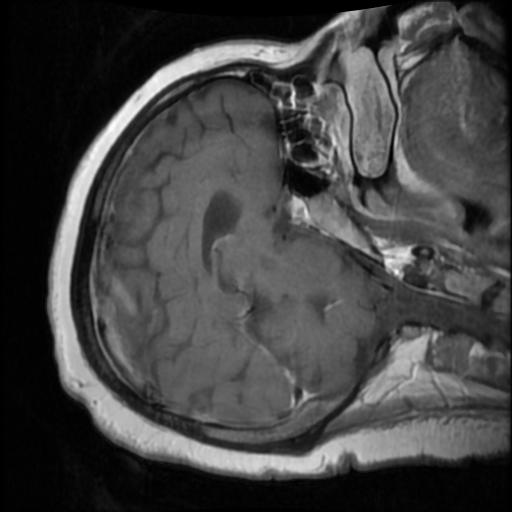pituitary tumour: (286, 196, 311, 225)
